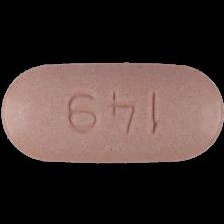0615-3563: (0, 0, 224, 224)
